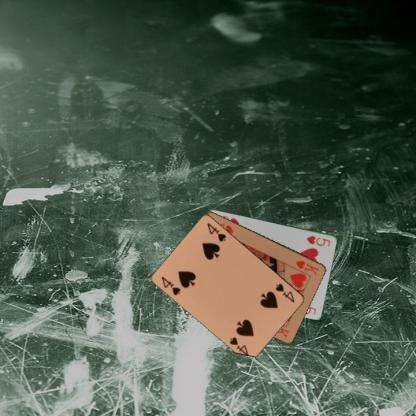4s: (274, 281, 296, 304), (159, 274, 182, 296)
5h: (304, 233, 332, 247)
Kh: (293, 258, 320, 276)
